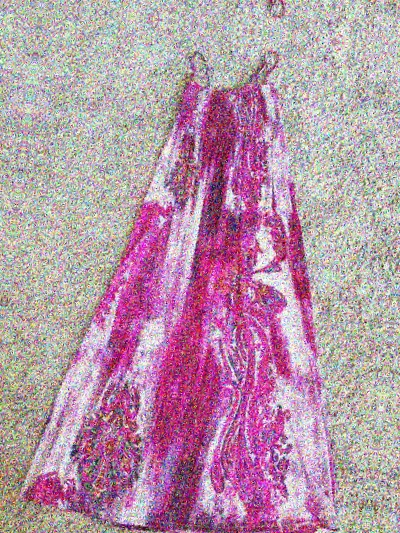Dress: (8, 30, 400, 533), (75, 0, 400, 29), (383, 77, 400, 533), (0, 0, 8, 507)
